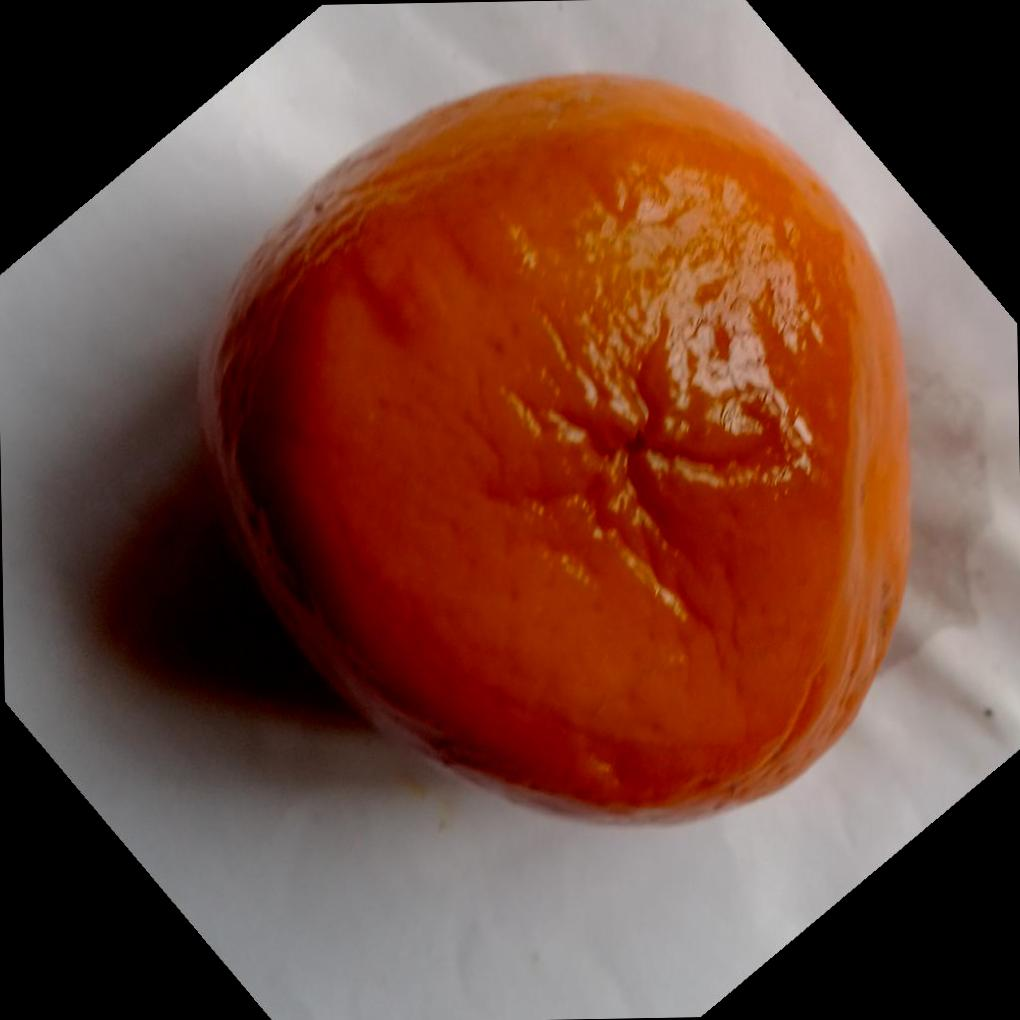FreshOrange: (195, 65, 913, 823)
